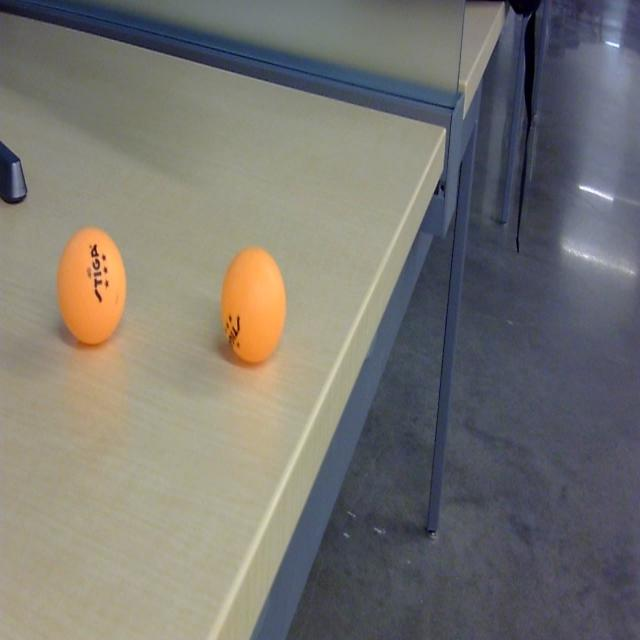ball: (56, 227, 128, 350), (220, 248, 288, 368)
